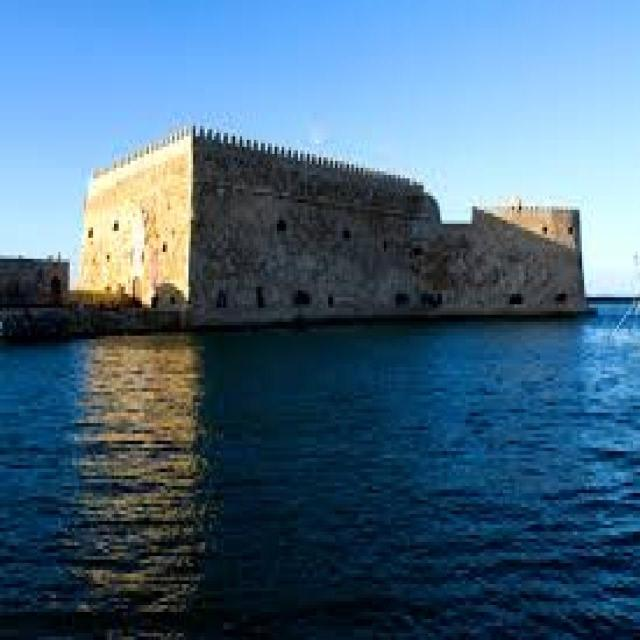Kules: (79, 122, 599, 323)
